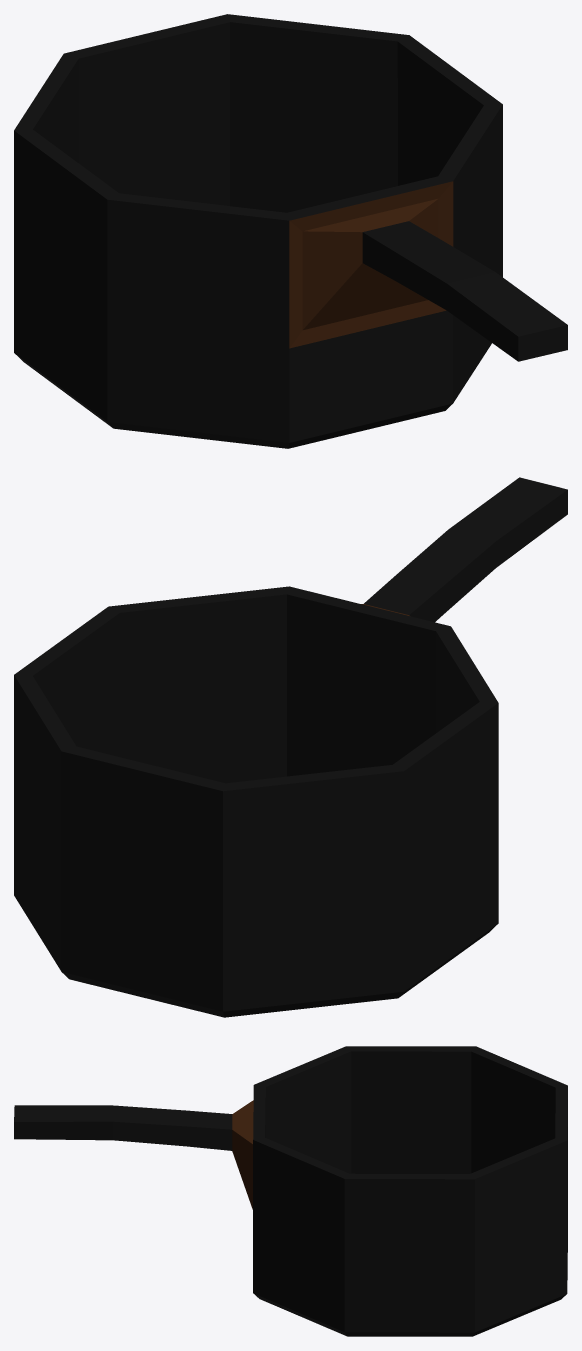
Rendered from BoilingPot_FBX.fbx.
3 renders of one model, top to bottom at view 1: azimuth 30°, elevation 25°; view 2: azimuth 150°, elevation 25°; view 3: azimuth 270°, elevation 25°, orthographic. The views are drawn at different scales.
Parts seen in each view (by area): view 1: Boiling_Pot; view 2: Boiling_Pot; view 3: Boiling_Pot.
Boxes of the visible parts, box(x1,y1,x2,y2) form: Boiling_Pot: box(14, 14, 567, 448); Boiling_Pot: box(14, 477, 567, 1017); Boiling_Pot: box(14, 1046, 567, 1336).
Size of the model in its own units: 13.12 by 7.37 by 23.08.
